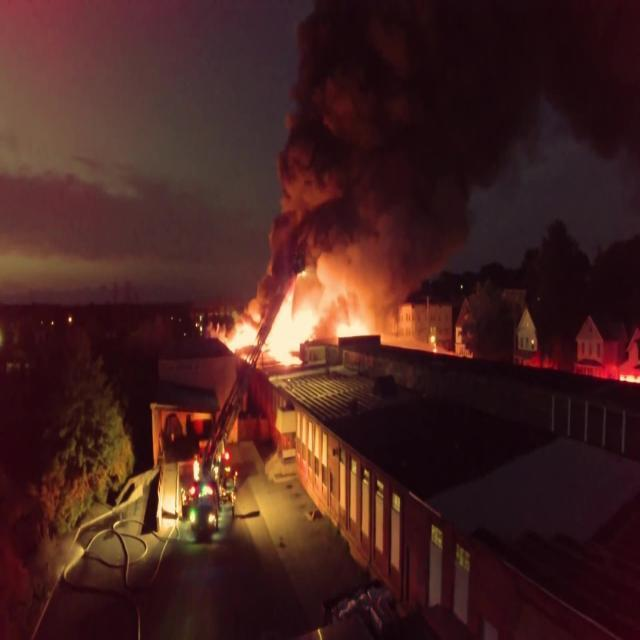Fire: (292, 287, 318, 337), (272, 312, 287, 349), (279, 304, 290, 349), (269, 330, 283, 358), (248, 304, 260, 334), (242, 324, 254, 347), (240, 332, 251, 354), (246, 324, 257, 346), (238, 341, 252, 356), (268, 349, 282, 364), (246, 332, 256, 352), (340, 324, 353, 338), (231, 340, 243, 355), (223, 340, 234, 356), (356, 324, 368, 336), (286, 356, 300, 366), (353, 323, 363, 336)
Smoke: (290, 0, 572, 136)
